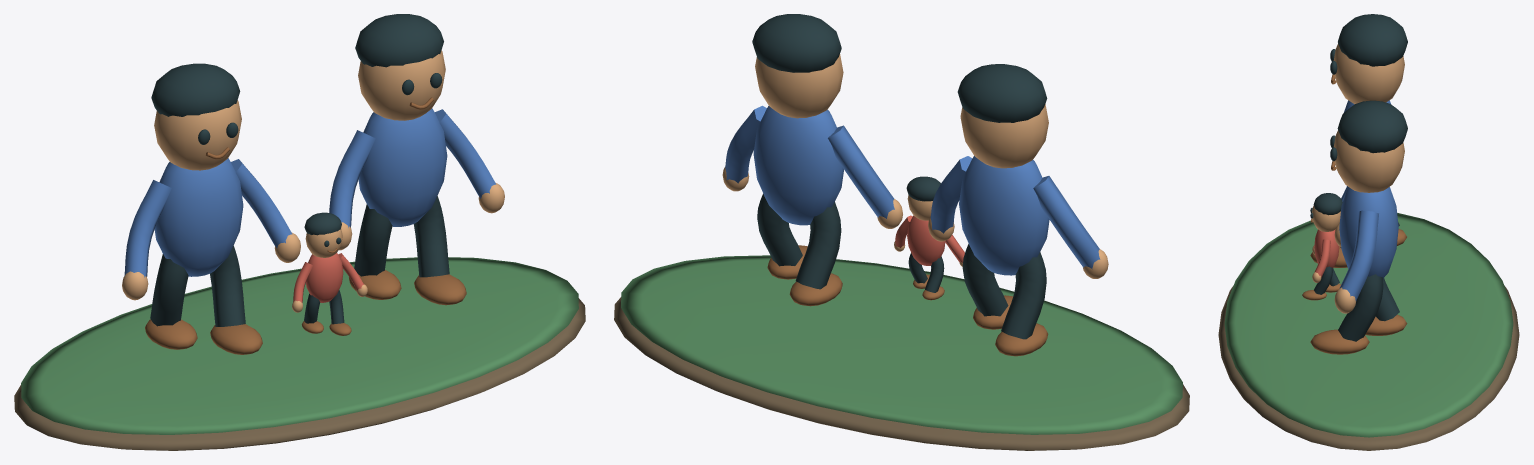
Rendered from older-brothers.glb.
3 views of the same model, side by side, from view 1: azimuth 30°, elevation 25°; view 2: azimuth 150°, elevation 25°; view 3: azimuth 270°, elevation 25° (orthographic). The views are drawn at different scales.
Visible parts, largest first — view 1: older-brothers_surface_01, older-brothers_surface_05, older-brothers_surface_03, older-brothers_surface_02, older-brothers_surface_00, older-brothers_surface_04, older-brothers_surface_06; view 2: older-brothers_surface_01, older-brothers_surface_05, older-brothers_surface_03, older-brothers_surface_00, older-brothers_surface_02, older-brothers_surface_04, older-brothers_surface_06; view 3: older-brothers_surface_01, older-brothers_surface_03, older-brothers_surface_02, older-brothers_surface_00, older-brothers_surface_05, older-brothers_surface_04, older-brothers_surface_06.
Boxes of the visible parts, x1,y1,x2,y2 form: older-brothers_surface_01: (21, 257, 578, 434); older-brothers_surface_05: (124, 108, 496, 277); older-brothers_surface_03: (150, 14, 449, 326); older-brothers_surface_02: (122, 50, 504, 312); older-brothers_surface_00: (14, 298, 585, 450); older-brothers_surface_04: (145, 97, 466, 354); older-brothers_surface_06: (293, 253, 363, 302); older-brothers_surface_01: (621, 255, 1182, 434); older-brothers_surface_05: (725, 105, 1100, 275); older-brothers_surface_03: (752, 14, 1047, 339); older-brothers_surface_00: (614, 297, 1189, 450); older-brothers_surface_02: (722, 54, 1108, 278); older-brothers_surface_04: (767, 245, 1048, 356); older-brothers_surface_06: (895, 215, 964, 265); older-brothers_surface_01: (1224, 213, 1513, 437); older-brothers_surface_03: (1310, 14, 1407, 341); older-brothers_surface_02: (1312, 44, 1404, 313); older-brothers_surface_00: (1218, 286, 1519, 450); older-brothers_surface_05: (1339, 100, 1398, 300); older-brothers_surface_04: (1302, 74, 1407, 354); older-brothers_surface_06: (1314, 229, 1339, 277).
Size of the model in its own units: 4.56 by 2.63 by 2.5.
